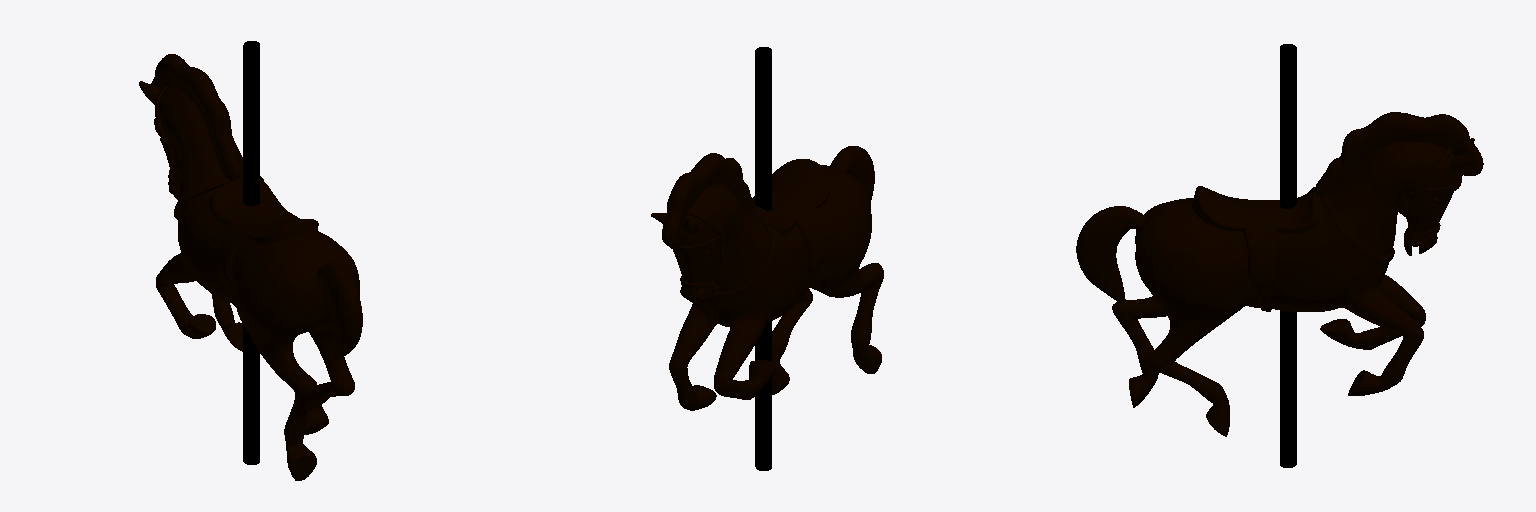
Rendered from carrossel_cavalo.obj.
3 renders of one model, left to right at view 1: azimuth 30°, elevation 25°; view 2: azimuth 150°, elevation 25°; view 3: azimuth 270°, elevation 25°, orthographic.
Parts seen in each view (by area): view 1: 16818_carousel_v1.002_16818_carousel_v1.003, 16818_carousel_v1.000_16818_carousel_v1.002; view 2: 16818_carousel_v1.002_16818_carousel_v1.003, 16818_carousel_v1.000_16818_carousel_v1.002; view 3: 16818_carousel_v1.002_16818_carousel_v1.003, 16818_carousel_v1.000_16818_carousel_v1.002.
Boxes of the visible parts, <box> form: 16818_carousel_v1.002_16818_carousel_v1.003: <box>139,54,362,480</box>; 16818_carousel_v1.000_16818_carousel_v1.002: <box>243,41,259,464</box>; 16818_carousel_v1.002_16818_carousel_v1.003: <box>651,146,883,410</box>; 16818_carousel_v1.000_16818_carousel_v1.002: <box>755,47,771,470</box>; 16818_carousel_v1.002_16818_carousel_v1.003: <box>1076,112,1483,436</box>; 16818_carousel_v1.000_16818_carousel_v1.002: <box>1280,44,1296,467</box>.
Bounding box in the file's own units: 1.2 × 4.52 × 4.